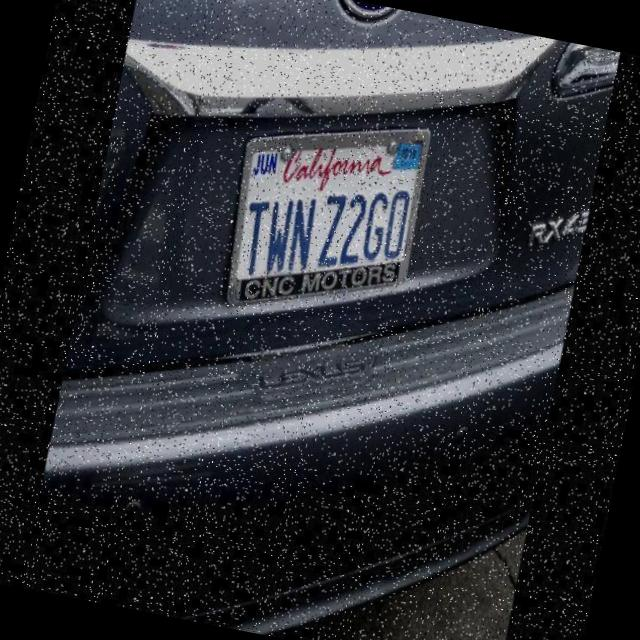LicensePlate: (219, 98, 436, 308)
